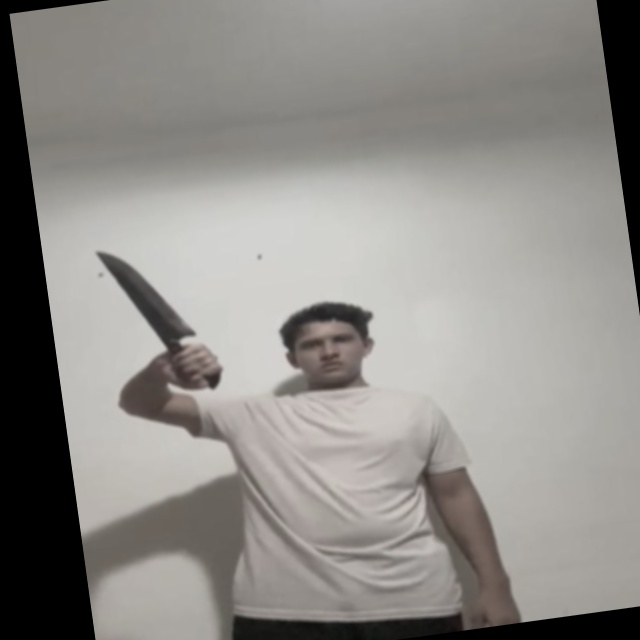Sharp-Object: (92, 237, 194, 347)
